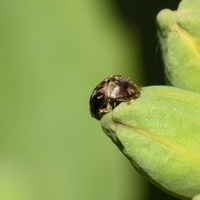insect: (90, 75, 140, 119)
